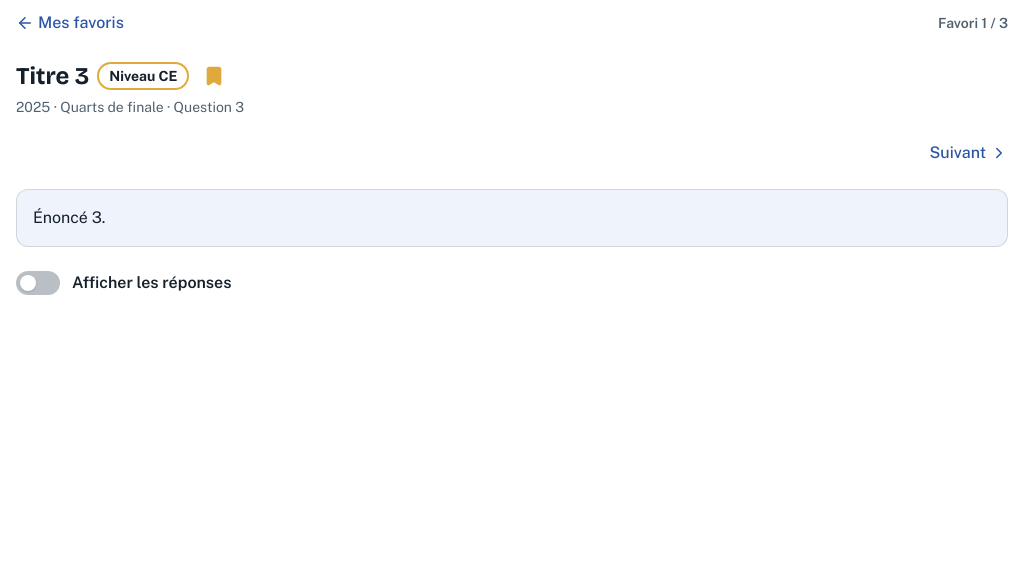
Test: ListQuestionPage (Story 4.5) › answers stay shown when moving on
expect the text "Énoncé 3." is shown: met, box [33,208,105,227]
Click the checkbox labelled "Afficher les réponses". click: (124, 283)
box: [16,271,232,295]
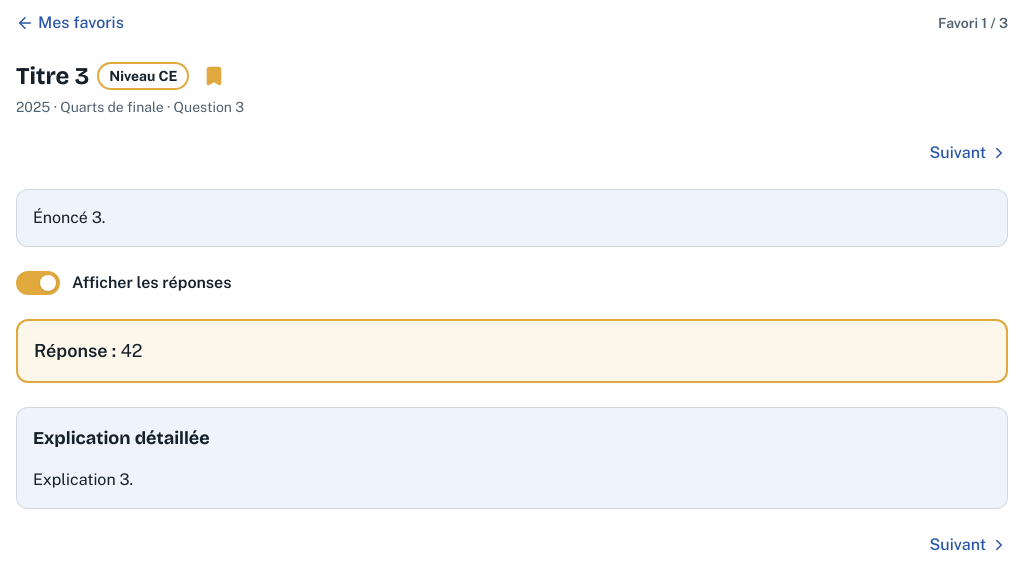
Click the 1st link "Suivant". click: (969, 153)
box: [930,141,1008,165]
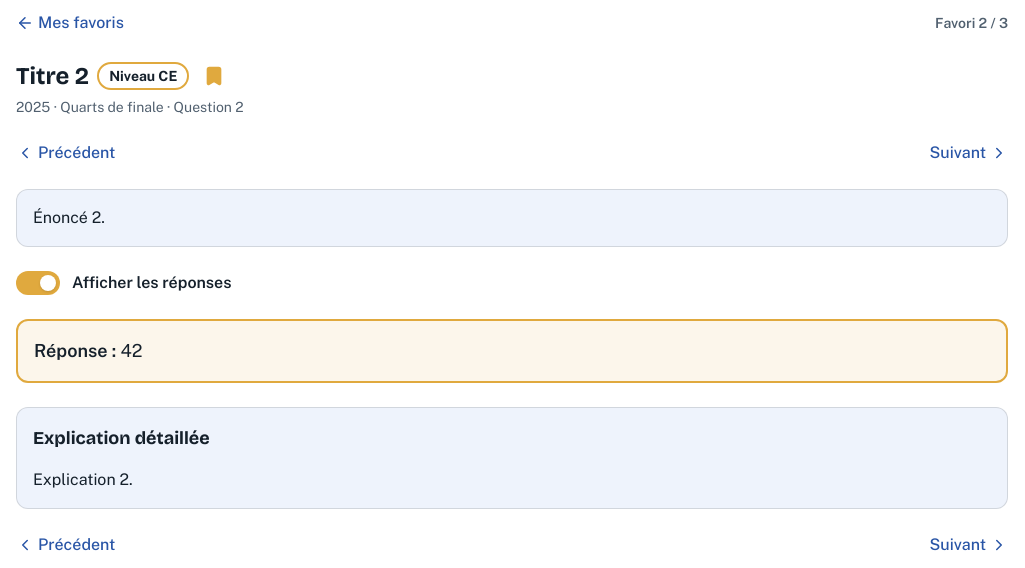
expect the text "Explication 2." is shown: met, box [33,470,133,489]
